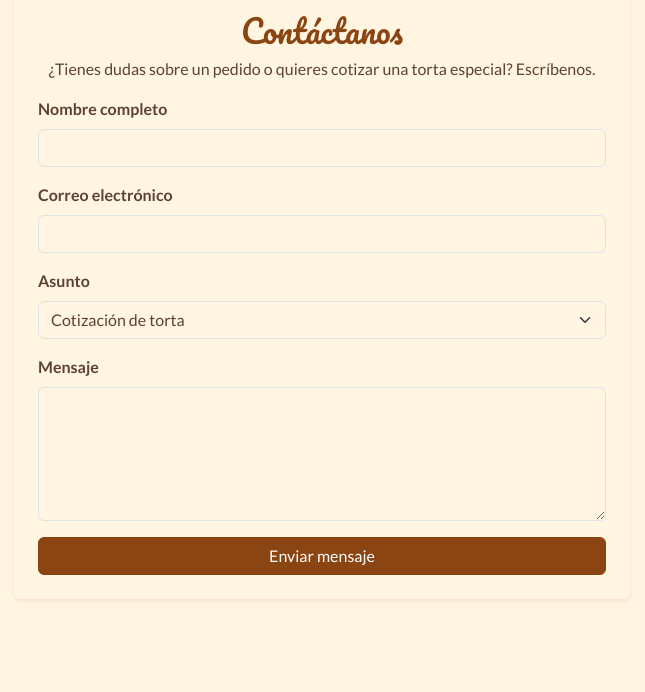
<Contacto /> (validación) › con todos los datos válidos confirma el envío
The width and height of the screenshot is (645, 692).
Type "Ana Pérez" into the field labelled "Nombre completo" at x=322, y=148, box [38,129,606,167]
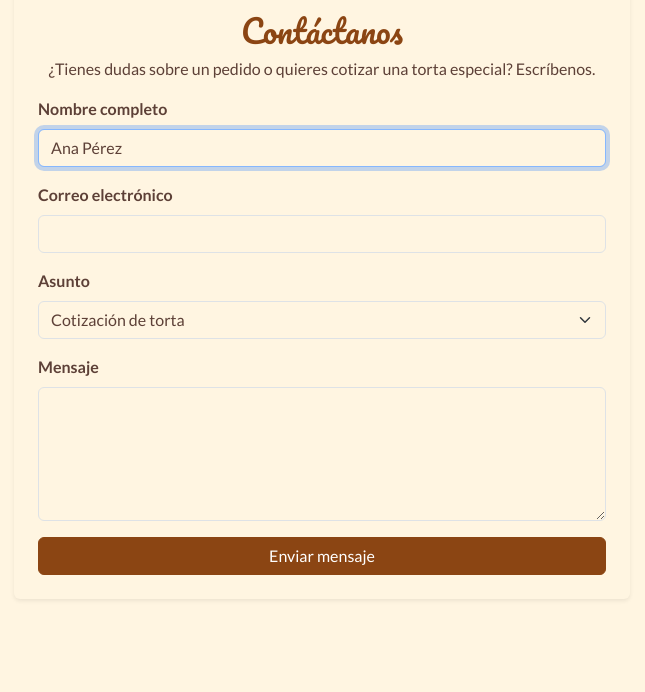
Type "ana@gmail.com" into the field labelled "Correo electrónico" at x=322, y=234, box [38,215,606,253]
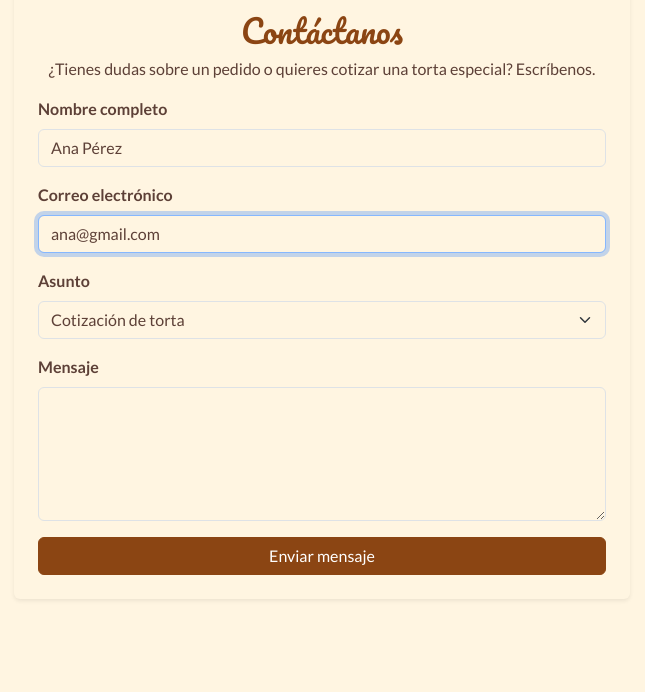
Type "Quiero cotizar una torta para 20 personas" into the text box labelled "Mensaje" at x=322, y=454, box [38,387,606,521]
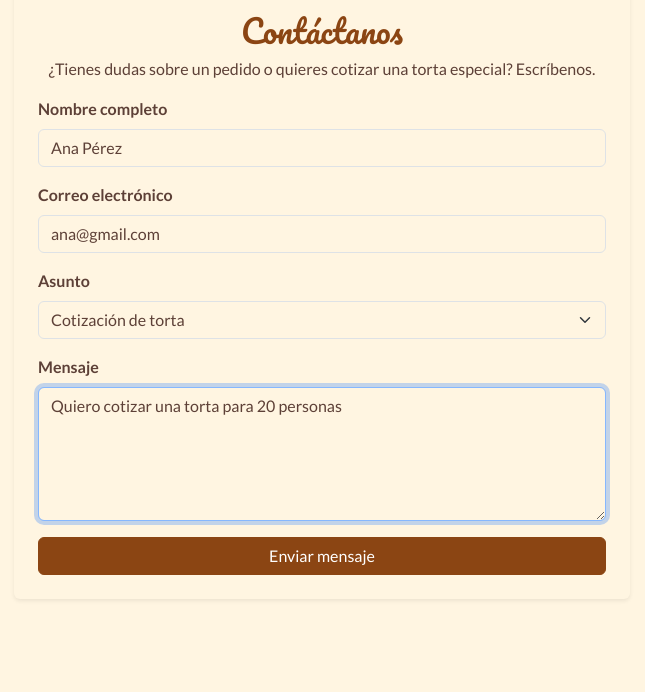
Click the button "Enviar mensaje" at x=322, y=556, box [38,537,606,575]
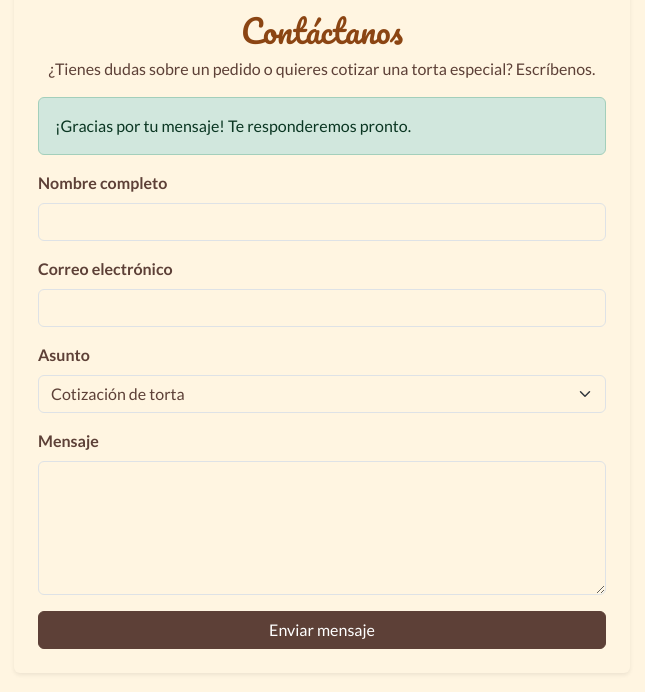
Expected: the text "¡Gracias por tu mensaje! Te responderemos pronto." is shown, [38,97,606,155]
